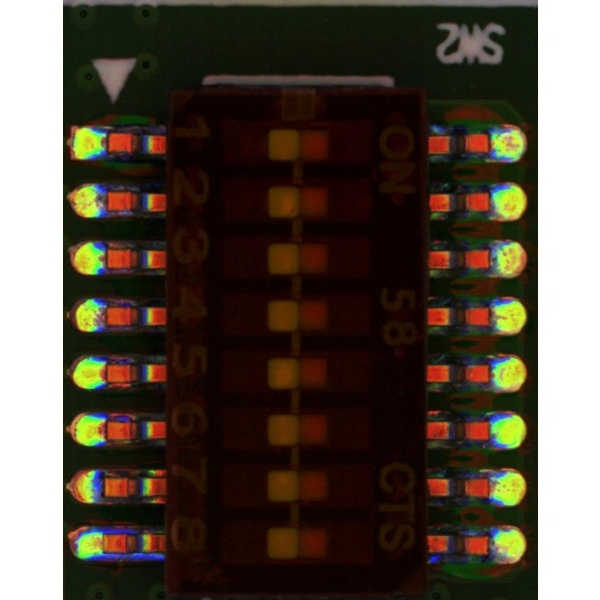Bad_podu: (98, 422, 113, 438), (96, 536, 110, 553), (99, 366, 113, 382)
